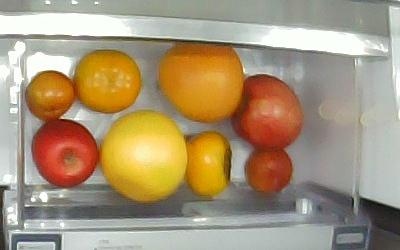apple: (232, 75, 303, 151), (31, 119, 99, 189)
grapefruit: (100, 109, 188, 201), (157, 43, 244, 122)
persimmon: (73, 49, 141, 113), (186, 131, 232, 196)
prune: (25, 70, 75, 122), (244, 148, 293, 195)
